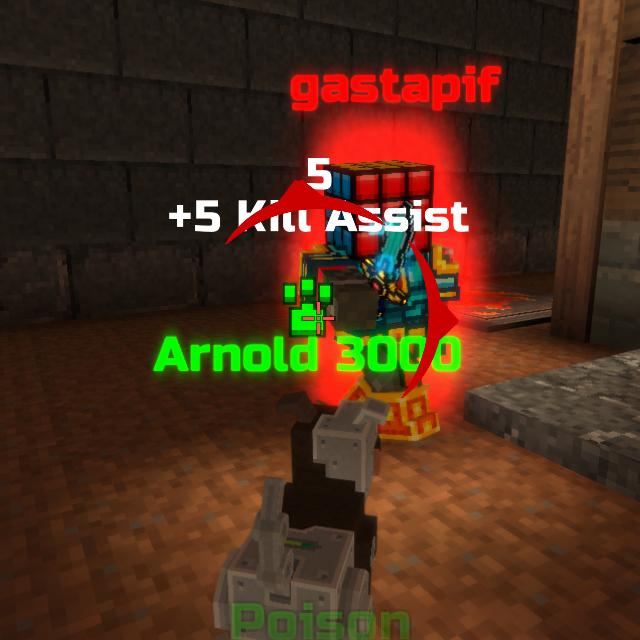Enemy: (301, 157, 469, 435)
